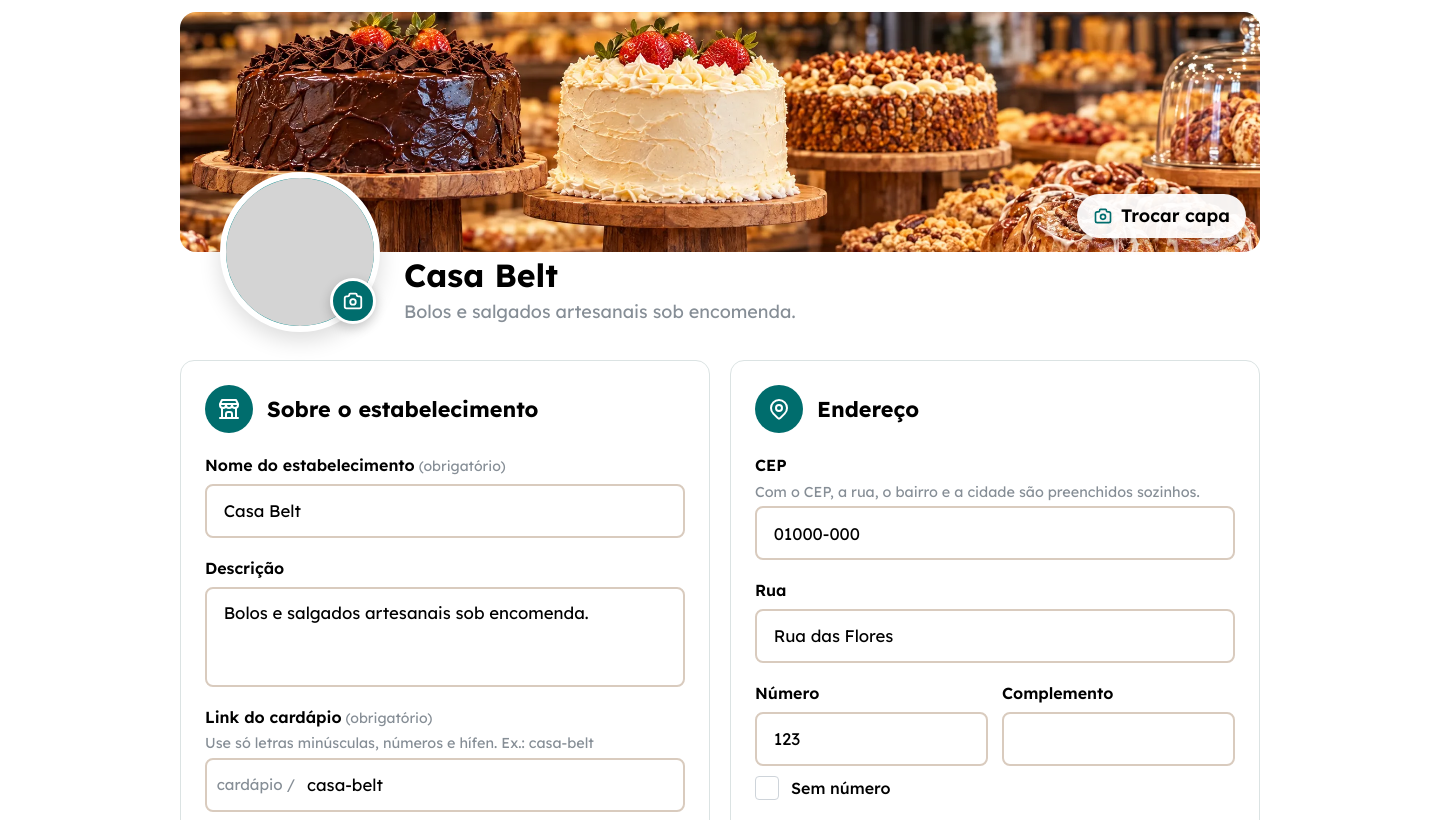
PaginaEstabelecimento (US2, RF03, RF04) › endereço pelo CEP (ZAP-121) › com um CEP novo, preenche rua, bairro, cidade e estado e leva o foco ao número
Replace the text in the field labelled "CEP" with "01001-000" at (995, 533), box x1=755 y1=506 x2=1235 y2=560
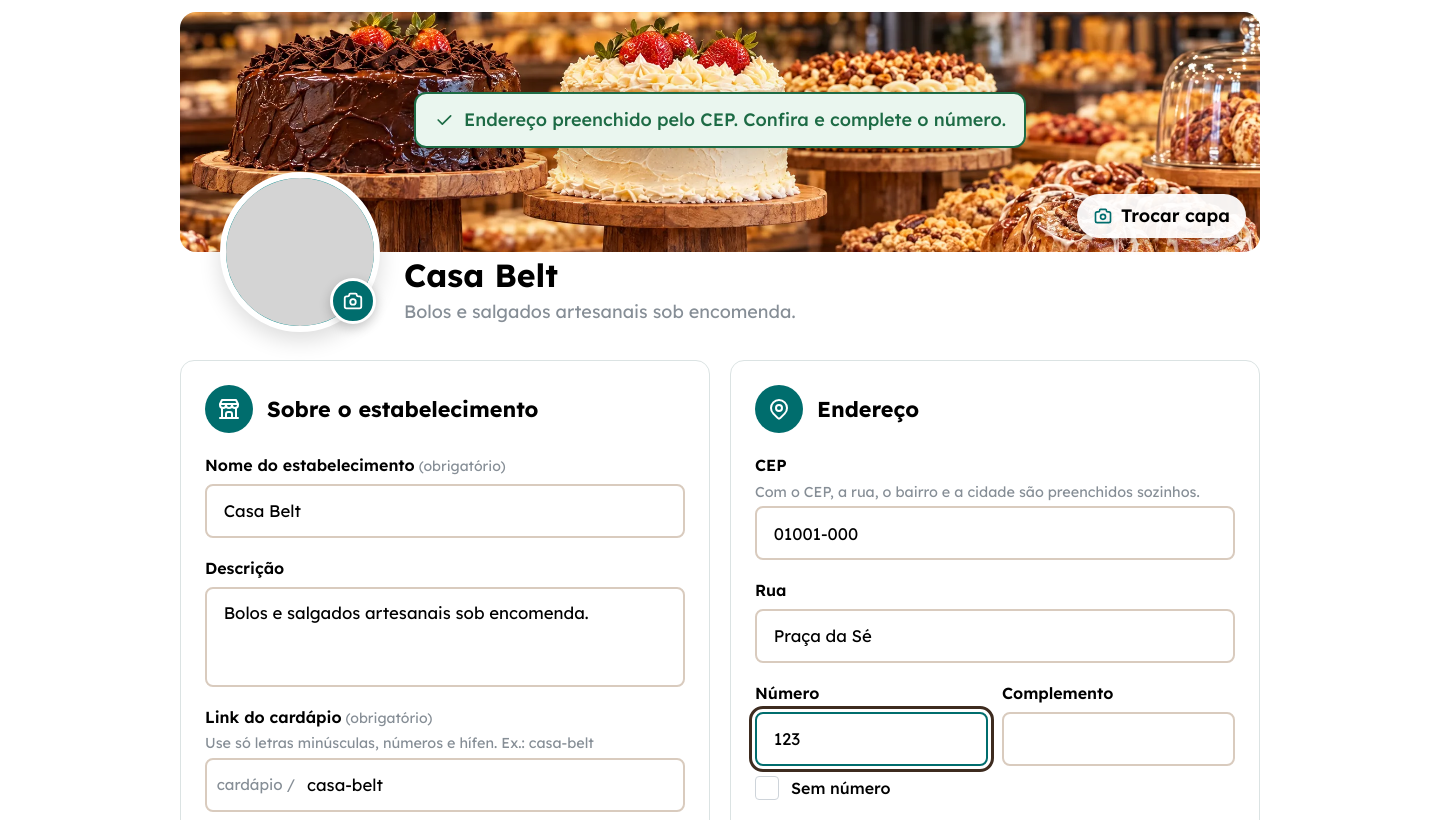
Expected: the text "Endereço preenchido pelo CEP. Confira e complete o número." is shown, x1=414 y1=92 x2=1026 y2=148
Expected: the field labelled "Rua" holds "Praça da Sé", x1=755 y1=609 x2=1235 y2=663
